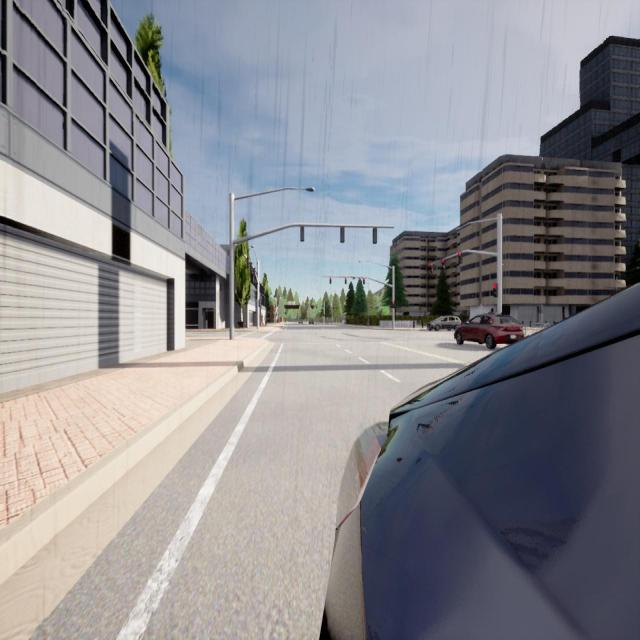Vehicle: (326, 284, 640, 638), (455, 314, 524, 348), (427, 316, 461, 330), (309, 319, 314, 325), (299, 320, 303, 324)
traffic_light: (340, 226, 344, 242), (373, 228, 377, 243), (493, 284, 498, 296), (458, 252, 462, 262), (301, 227, 304, 240), (442, 260, 445, 269), (431, 264, 434, 272), (392, 301, 395, 308), (363, 278, 365, 284), (330, 277, 331, 284), (345, 277, 346, 284)
